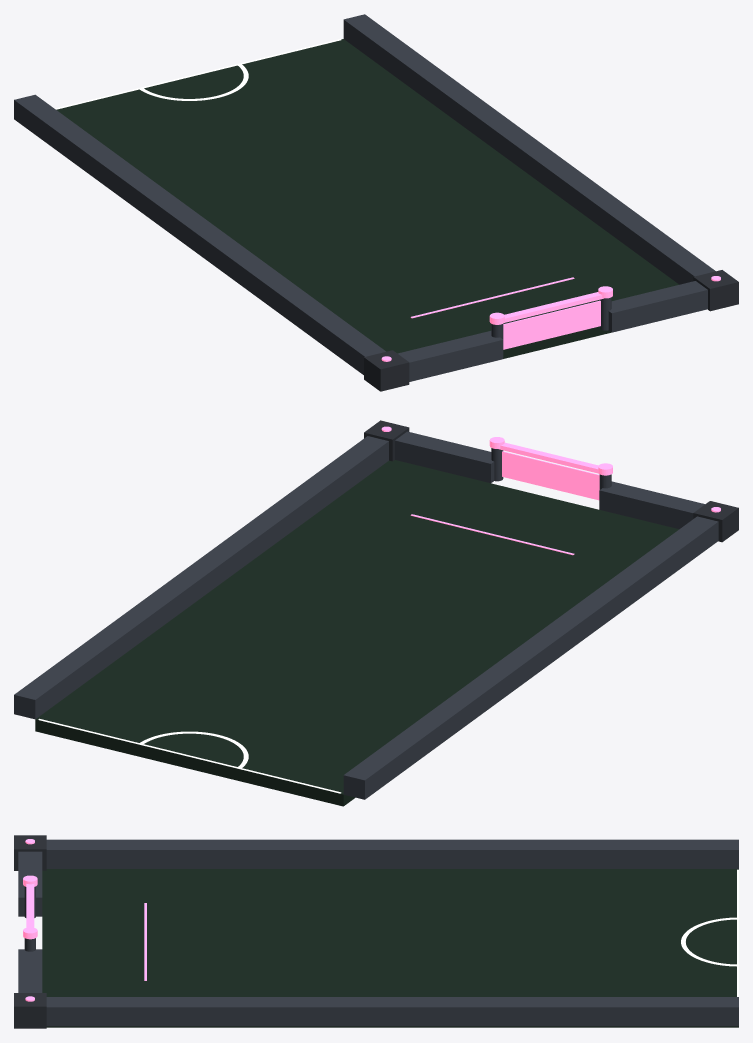
The model's file is mesa_cyber_soccer_half_p2.glb.
3 renders of one model, top to bottom at view 1: azimuth 30°, elevation 25°; view 2: azimuth 150°, elevation 25°; view 3: azimuth 270°, elevation 25°, orthographic. The views are drawn at different scales.
Visible parts, largest first — view 1: SoccerHalfP2_Surface, SoccerHalfP2_RailL, SoccerHalfP2_RailR, Cube.004, Cube.002, Cube.009, Cube.006, Cube.007, Cube.008, SoccerHalfP2_TopEdgeLaser; view 2: SoccerHalfP2_Surface, SoccerHalfP2_RailL, SoccerHalfP2_RailR, Cube.004, Cube.002, Cube.009, Cube.006, Cube.008, Cube.007, SoccerHalfP2_TopEdgeLaser; view 3: SoccerHalfP2_Surface, SoccerHalfP2_RailL, SoccerHalfP2_RailR, Cube.002, Cube.007, Cube.004, Cube.006, SoccerHalfP2_CenterArcOuter, Cube.008.
Part boxes in pixels (x1=…): SoccerHalfP2_Surface: x1=56, y1=39, x2=678, y2=358; SoccerHalfP2_RailL: x1=14, y1=94, x2=385, y2=374; SoccerHalfP2_RailR: x1=343, y1=14, x2=715, y2=284; Cube.004: x1=608, y1=281, x2=707, y2=332; Cube.002: x1=397, y1=331, x2=503, y2=381; Cube.009: x1=503, y1=300, x2=600, y2=349; Cube.006: x1=364, y1=350, x2=409, y2=391; Cube.007: x1=693, y1=270, x2=738, y2=311; Cube.008: x1=504, y1=292, x2=603, y2=322; SoccerHalfP2_TopEdgeLaser: x1=55, y1=39, x2=341, y2=109; SoccerHalfP2_Surface: x1=35, y1=460, x2=678, y2=806; SoccerHalfP2_RailL: x1=343, y1=516, x2=718, y2=799; SoccerHalfP2_RailR: x1=14, y1=436, x2=388, y2=719; Cube.004: x1=395, y1=431, x2=494, y2=483; Cube.002: x1=599, y1=481, x2=704, y2=529; Cube.009: x1=502, y1=451, x2=599, y2=500; Cube.006: x1=693, y1=501, x2=738, y2=542; Cube.008: x1=499, y1=442, x2=598, y2=473; Cube.007: x1=364, y1=420, x2=409, y2=461; SoccerHalfP2_TopEdgeLaser: x1=38, y1=718, x2=341, y2=793; SoccerHalfP2_Surface: x1=42, y1=869, x2=738, y2=1027; SoccerHalfP2_RailL: x1=46, y1=839, x2=738, y2=868; SoccerHalfP2_RailR: x1=46, y1=997, x2=738, y2=1026; Cube.002: x1=18, y1=851, x2=42, y2=916; Cube.007: x1=14, y1=993, x2=46, y2=1028; Cube.004: x1=18, y1=949, x2=42, y2=992; Cube.006: x1=14, y1=835, x2=46, y2=870; SoccerHalfP2_CenterArcOuter: x1=681, y1=917, x2=736, y2=966; Cube.008: x1=26, y1=884, x2=34, y2=927.
Bounding box in the file's own units: 1.26 × 0.17 × 2.25.
